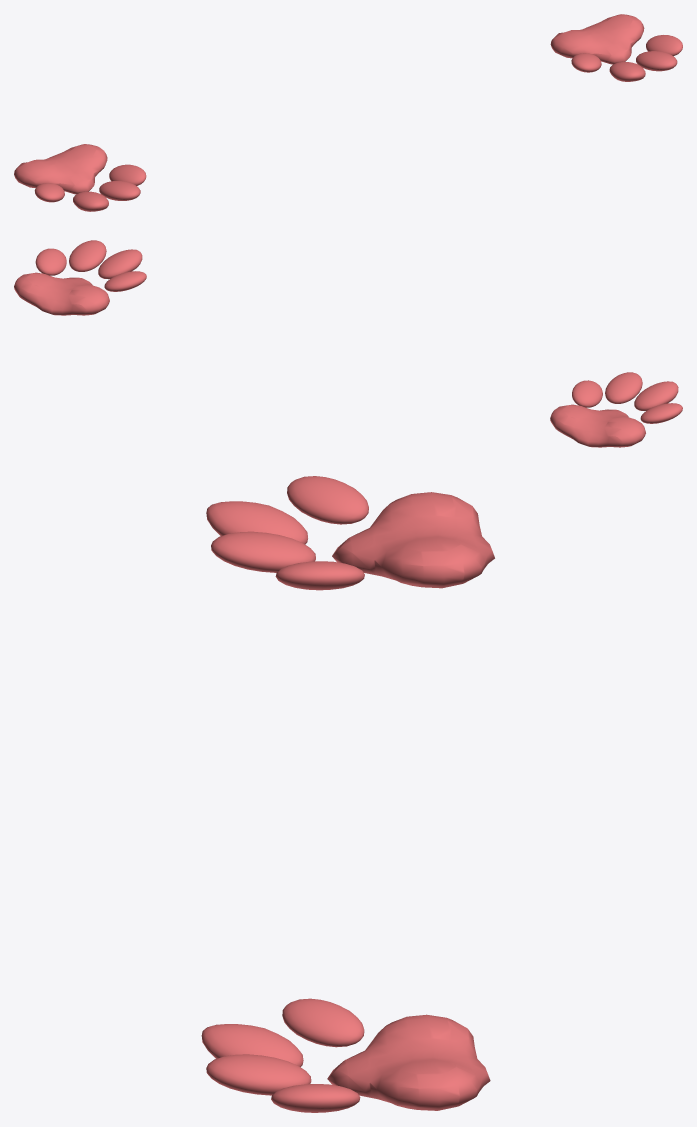
Rendered from cat back beans.fbx.
The picture shows the model from 3 angles, top to bottom: view 1: azimuth 30°, elevation 25°; view 2: azimuth 150°, elevation 25°; view 3: azimuth 270°, elevation 25°; orthographic projection. The views are drawn at different scales.
Parts seen in each view (by area): view 1: bit.001, bit.003; view 2: bit.003, bit.001; view 3: bit.001, bit.003.
Boxes of the visible parts, x1,y1,x2,y2 form: bit.001: (14, 144, 146, 211); bit.003: (550, 14, 682, 81); bit.003: (14, 240, 146, 315); bit.001: (550, 372, 682, 447); bit.001: (206, 476, 494, 590); bit.003: (201, 998, 490, 1112).
Bounding box in the file's own units: 10.52 × 0.3865 × 2.09.
